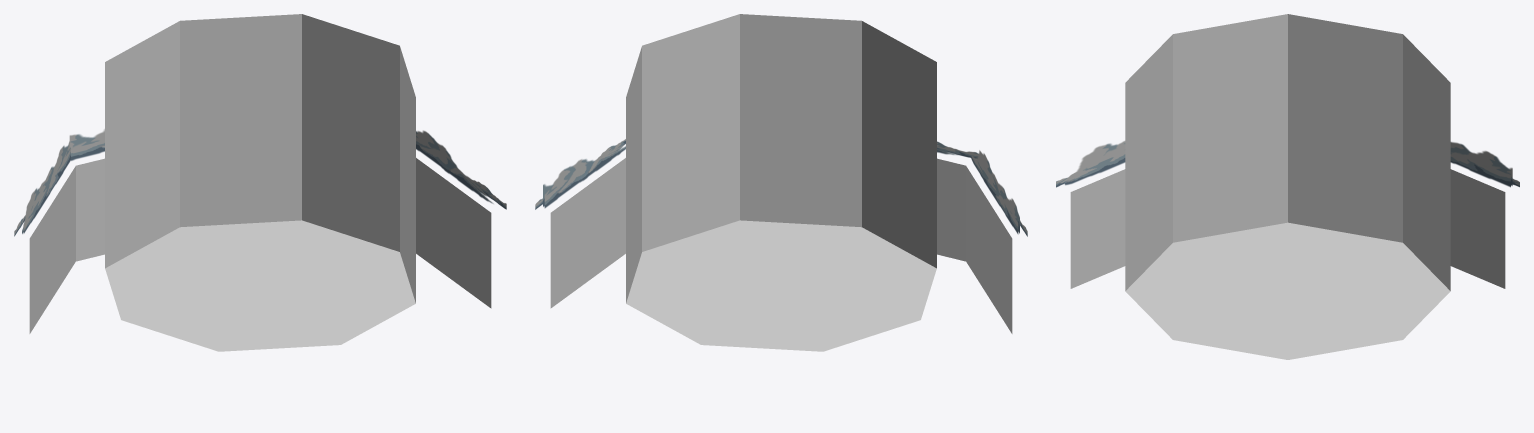
Rendered from Skybox.glb.
The picture shows the model from 3 angles, left to right: view 1: azimuth 30°, elevation 25°; view 2: azimuth 150°, elevation 25°; view 3: azimuth 270°, elevation 25°; orthographic projection.
Parts seen in each view (by area): view 1: Sky, Ocean, CloudNear, CloudMiddle; view 2: Sky, Ocean, CloudNear, CloudMiddle, CloudFar; view 3: Sky, Ocean, CloudNear, CloudMiddle.
Part boxes in pixels (box(x1,y1,x2,y2)): Sky: box(105, 14, 415, 351); Ocean: box(29, 158, 491, 333); CloudNear: box(23, 135, 493, 233); CloudMiddle: box(22, 129, 488, 233); Sky: box(626, 14, 936, 351); Ocean: box(550, 158, 1012, 333); CloudNear: box(544, 146, 1018, 234); CloudMiddle: box(543, 144, 1019, 233); CloudFar: box(535, 139, 1027, 236); Sky: box(1125, 14, 1450, 359); Ocean: box(1070, 169, 1505, 288); CloudNear: box(1065, 143, 1510, 187); CloudMiddle: box(1064, 141, 1512, 185).
Bounding box in the file's own units: 300 × 216 × 300.
Materials: 2 (2 with a texture image).
